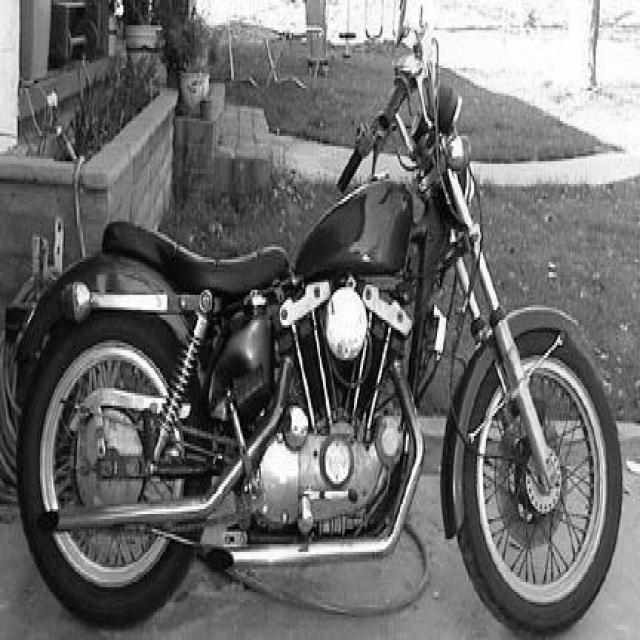Motorcycle: (16, 33, 622, 631)
